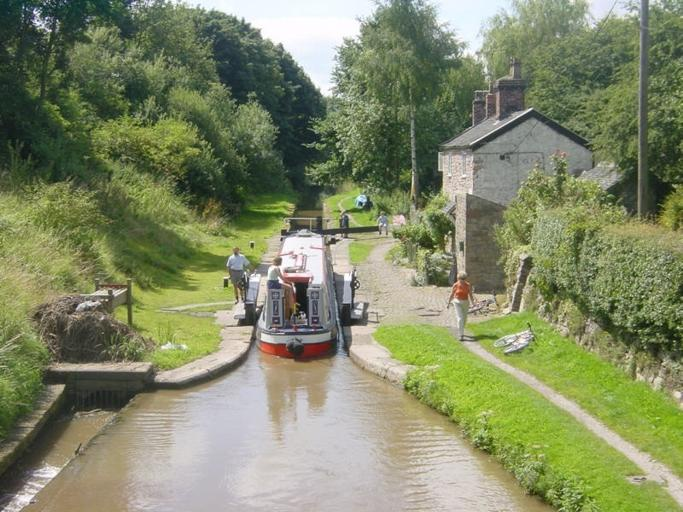non-vehicle: (492, 320, 536, 353), (464, 287, 499, 314)
